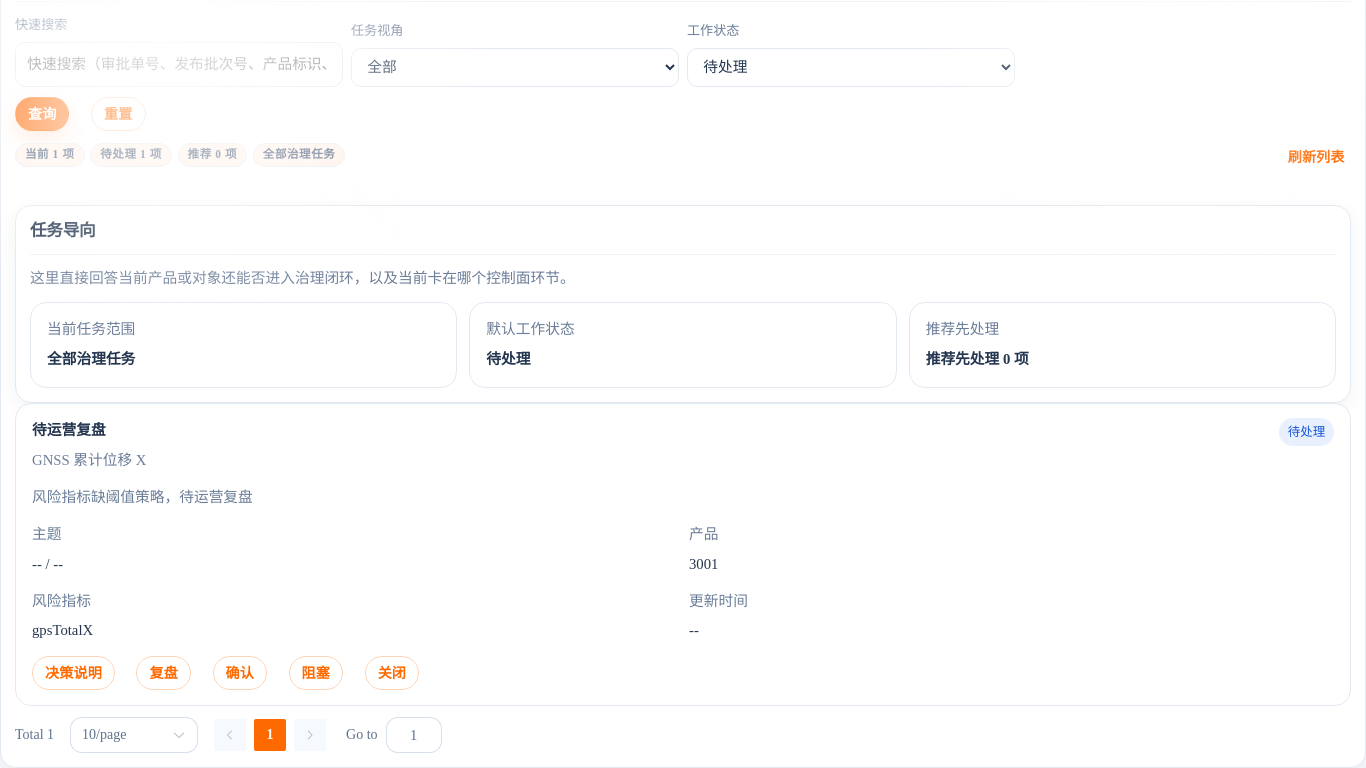
Test: governance control plane views › loads governance replay from pending replay work items by resolving product key
The image size is (1366, 768).
(page scrolled)
What coordinates should you click on to do the following:
click the button "复盘"
I would click on:
 (164, 673)
Its box is [136,656,191,690].
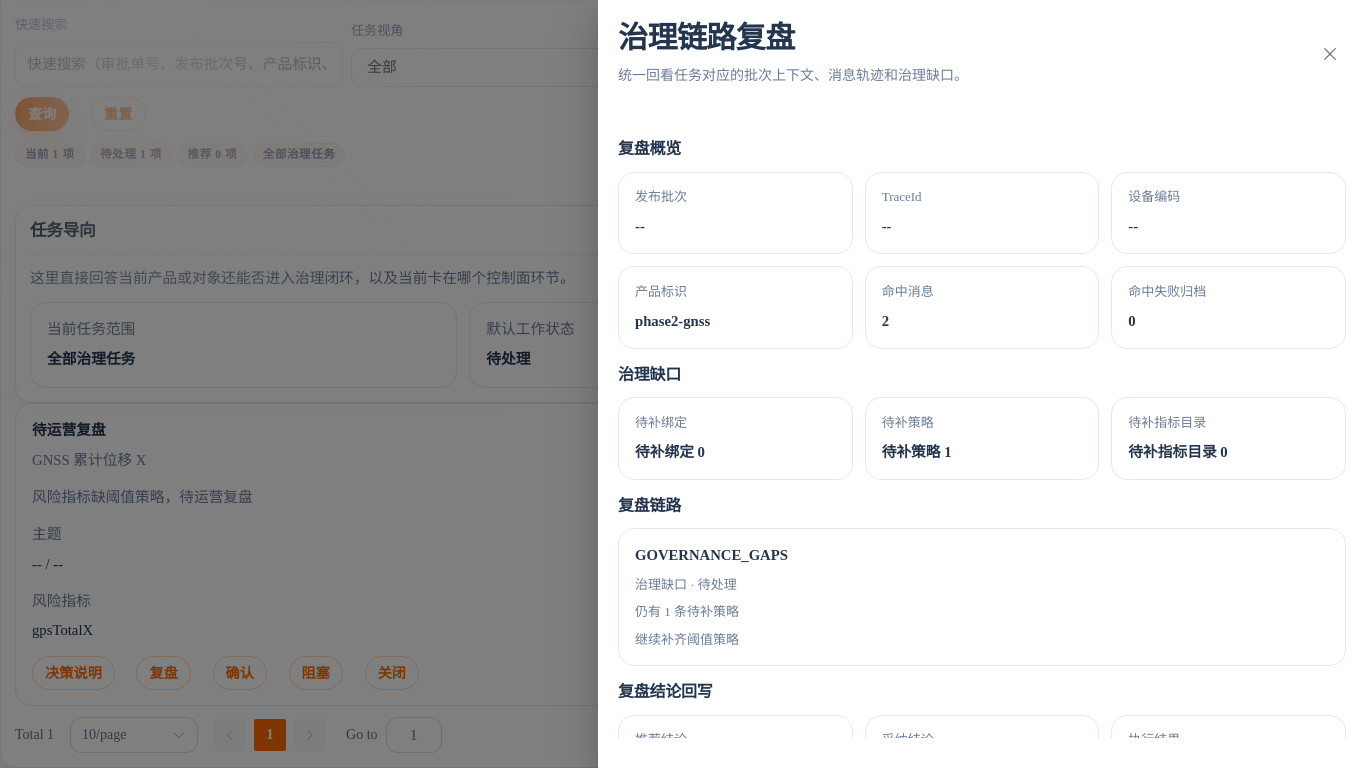
expect the text "治理链路复盘" is shown: met, box [618,21,795,55]
expect the text "phase2-gnss" is shown: met, box [635,313,710,329]
expect the text "待补策略 1" is shown: met, box [882,444,952,460]
